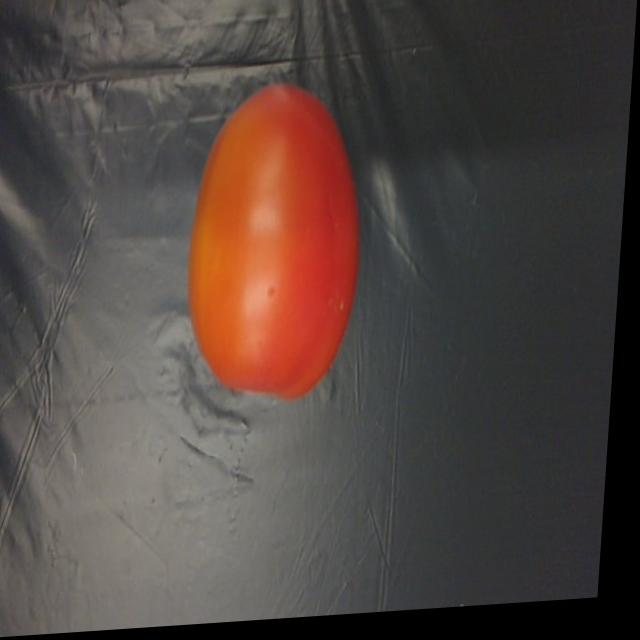sari: (175, 87, 346, 390)
